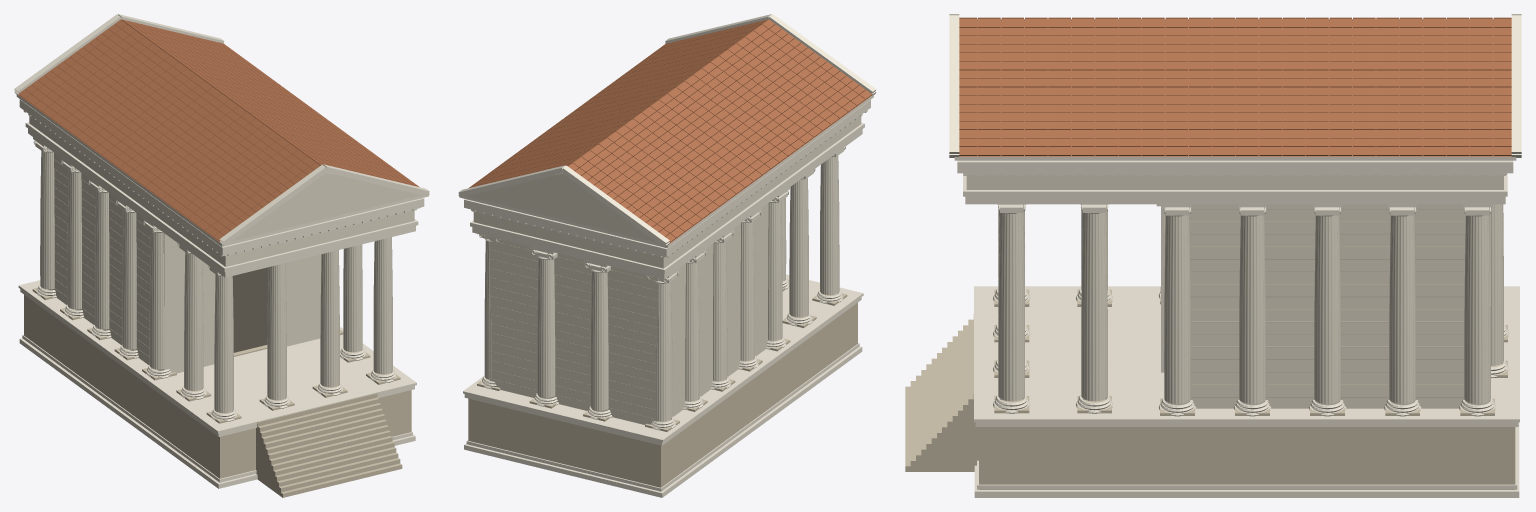
The model's file is portunus-v1.glb.
3 renders of one model, left to right at view 1: azimuth 30°, elevation 25°; view 2: azimuth 150°, elevation 25°; view 3: azimuth 270°, elevation 25°, orthographic. The views are drawn at different scales.
Visible parts, largest first — view 1: portunus-stucco, portunus-roof, portunus-moulding, portunus-travertine, portunus-recess; view 2: portunus-stucco, portunus-roof, portunus-moulding, portunus-travertine; view 3: portunus-stucco, portunus-roof, portunus-moulding, portunus-travertine.
Part boxes in pixels (x1,y1,x2,y2): portunus-stucco: [29, 116, 421, 413]; portunus-roof: [18, 19, 419, 242]; portunus-moulding: [14, 14, 429, 488]; portunus-travertine: [24, 159, 411, 497]; portunus-recess: [232, 267, 267, 352]; portunus-stucco: [467, 116, 861, 424]; portunus-roof: [468, 19, 871, 243]; portunus-moulding: [458, 14, 876, 497]; portunus-travertine: [468, 209, 857, 489]; portunus-stucco: [966, 175, 1503, 408]; portunus-roof: [959, 17, 1511, 156]; portunus-moulding: [949, 14, 1521, 497]; portunus-travertine: [905, 209, 1515, 489].
Bounding box in the file's own units: 11.43 × 16.09 × 21.55.
